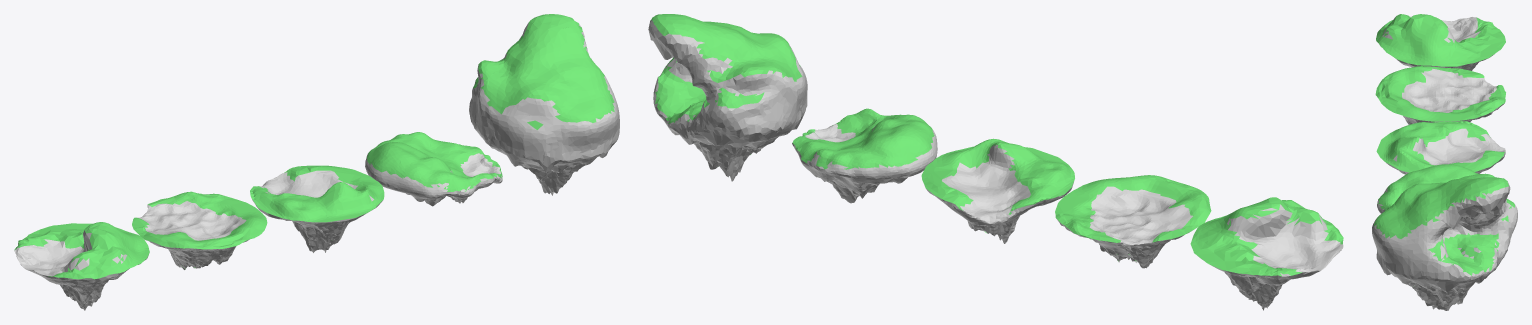
The model's file is Lake Islands.fbx.
3 renders of one model, left to right at view 1: azimuth 30°, elevation 25°; view 2: azimuth 150°, elevation 25°; view 3: azimuth 270°, elevation 25°, orthographic. The views are drawn at different scales.
Parts seen in each view (by area): view 1: Cliff Island, Lake Island 4, Lake Island 2, Lake Island 1, Lake Island 3; view 2: Cliff Island, Lake Island 2, Lake Island 4, Lake Island 1, Lake Island 3; view 3: Cliff Island, Lake Island 1, Lake Island 2, Lake Island 4, Lake Island 3.
Part boxes in pixels (x1,y1,x2,y2): Cliff Island: [469, 14, 619, 195]; Lake Island 4: [250, 165, 384, 252]; Lake Island 2: [14, 222, 149, 310]; Lake Island 1: [132, 191, 267, 269]; Lake Island 3: [365, 132, 502, 206]; Cliff Island: [648, 14, 807, 181]; Lake Island 2: [1190, 197, 1343, 310]; Lake Island 4: [921, 138, 1074, 243]; Lake Island 1: [1055, 175, 1211, 268]; Lake Island 3: [792, 108, 937, 203]; Cliff Island: [1372, 173, 1517, 310]; Lake Island 1: [1375, 66, 1505, 124]; Lake Island 2: [1376, 14, 1505, 70]; Lake Island 4: [1376, 121, 1505, 174]; Lake Island 3: [1377, 164, 1478, 213].
Size of the model in its own units: 996 by 248 by 225.
